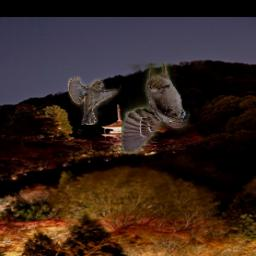Sparrow: (123, 63, 191, 154), (69, 75, 123, 125)
